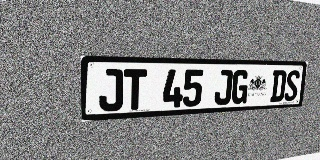4: (162, 69, 184, 108)
5: (183, 69, 203, 107)
D: (270, 70, 287, 102)
G: (231, 70, 249, 104)
J: (99, 69, 123, 112), (214, 70, 233, 105)
S: (284, 70, 300, 101)
T: (124, 69, 147, 110)
